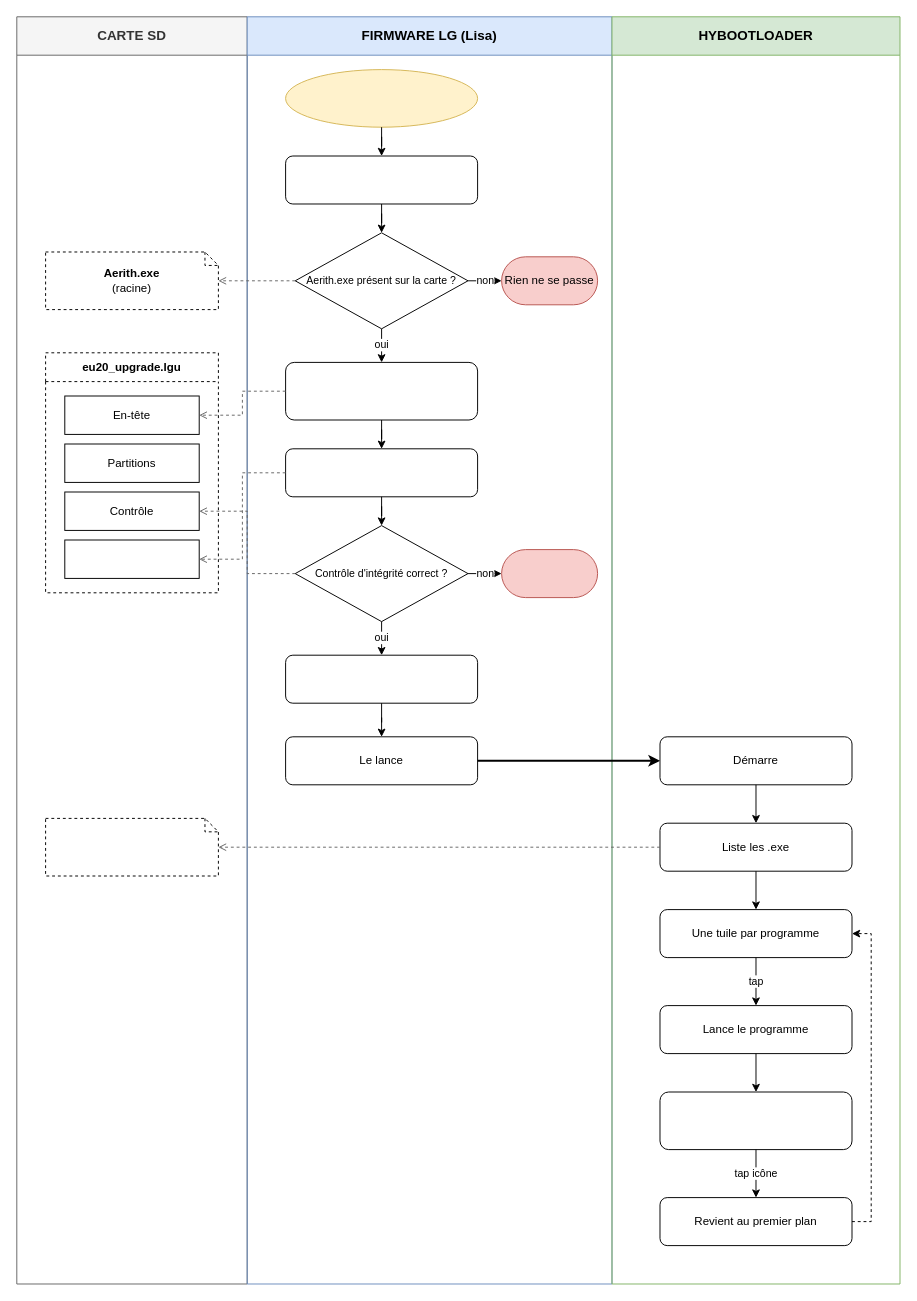
Some shapes in this 917 by 1301 pixel diagram are drawn without their labels. The shapes that lost their labels are listed below. From the top down, each one's centre as x and y in pixels, then its label:
the point at 381,98: Tu appuies sur « Mettre à jour »
the point at 381,179: Reçoit l'appui
the point at 381,390: Lit l'en-tête du fichier de mise à jour → taille du programme
the point at 381,472: Extrait le programme embarqué
the point at 131,558: Programme
the point at 549,573: Abandon
the point at 381,678: L'installe dans la mémoire interne
the point at 131,846: programmes\ *.exe
the point at 755,1120: Se cache, icône « B » flottante au-dessus
